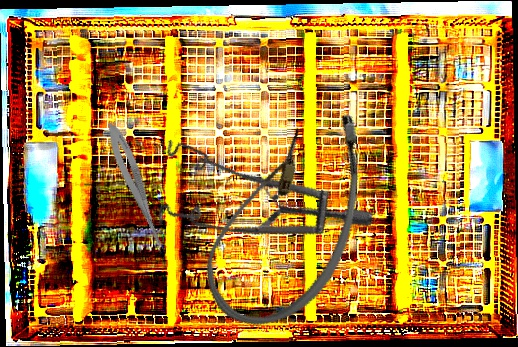Cannula: (189, 85, 388, 347)
Micro Scissor: (100, 119, 175, 257)
Speculum: (135, 89, 377, 286)
